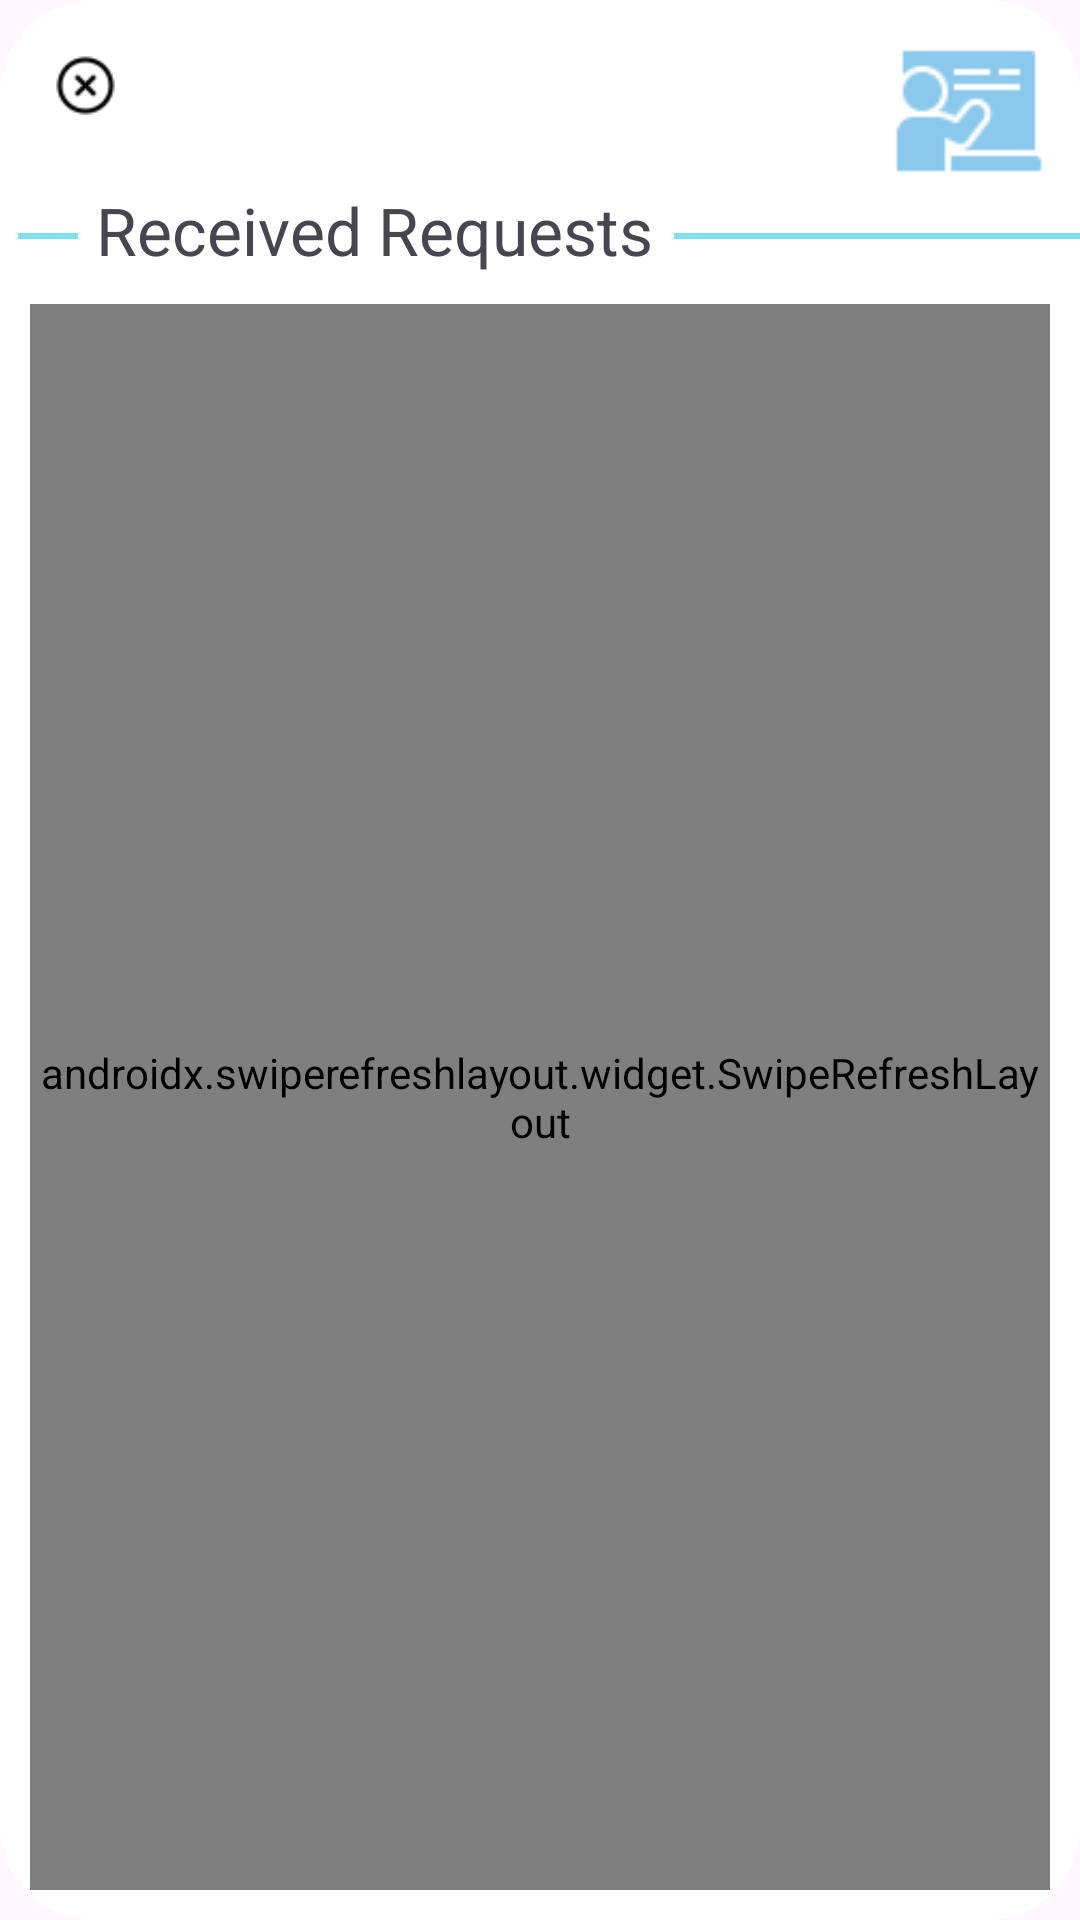

Named icons in this screenshot (1080px x 1920px) and their centers, (x,y):
close: (85,85)
